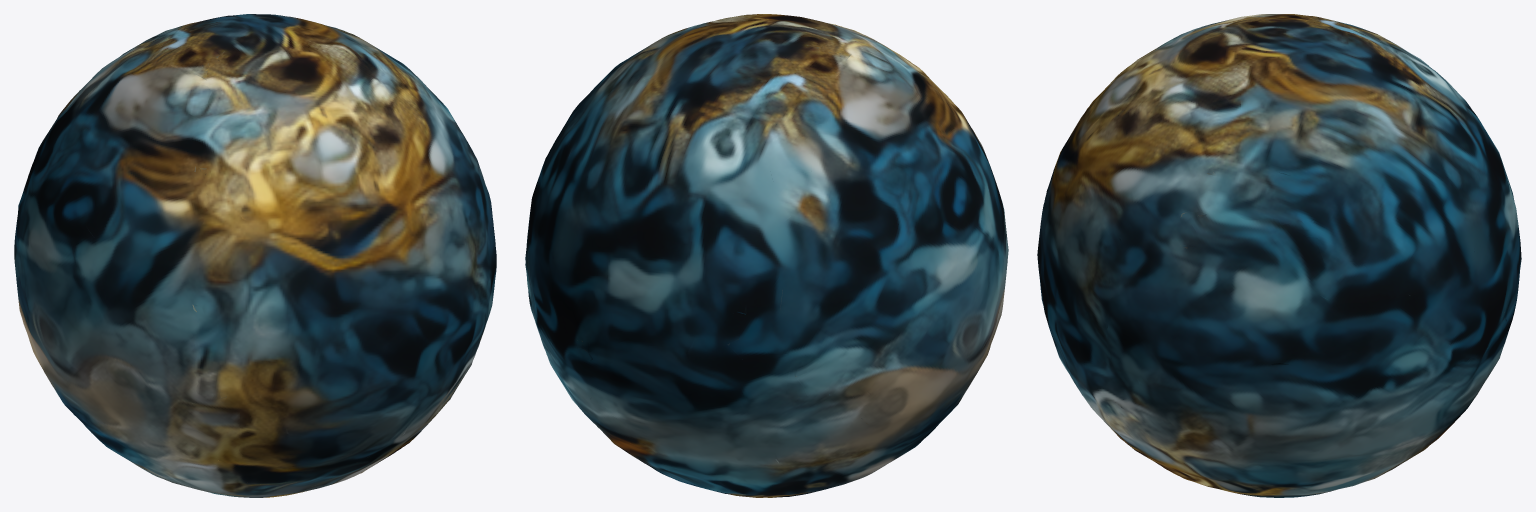
Rendered from marble-ball-hd.glb.
3 renders of one model, left to right at view 1: azimuth 30°, elevation 25°; view 2: azimuth 150°, elevation 25°; view 3: azimuth 270°, elevation 25°, orthographic.
Visible parts, largest first — view 1: Marble_Ball_HD; view 2: Marble_Ball_HD; view 3: Marble_Ball_HD.
Boxes of the visible parts, x1,y1,x2,y2 form: Marble_Ball_HD: (14, 14, 496, 497); Marble_Ball_HD: (525, 14, 1008, 497); Marble_Ball_HD: (1037, 14, 1521, 497).
Bounding box in the file's own units: 0.5308 × 0.533 × 0.5316.
1 material, 1 textured.
